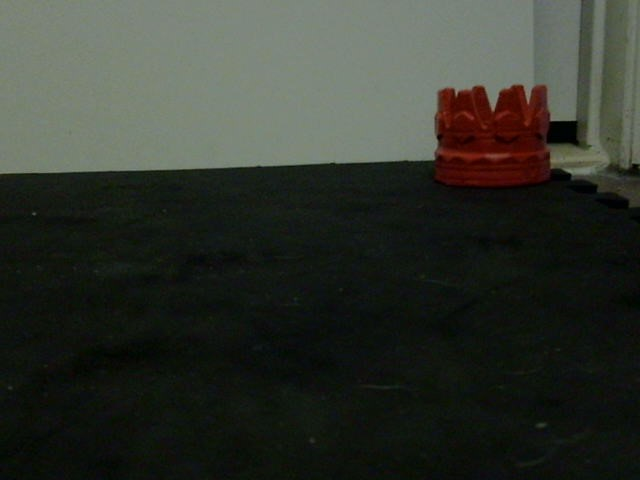crown: (428, 83, 555, 189)
